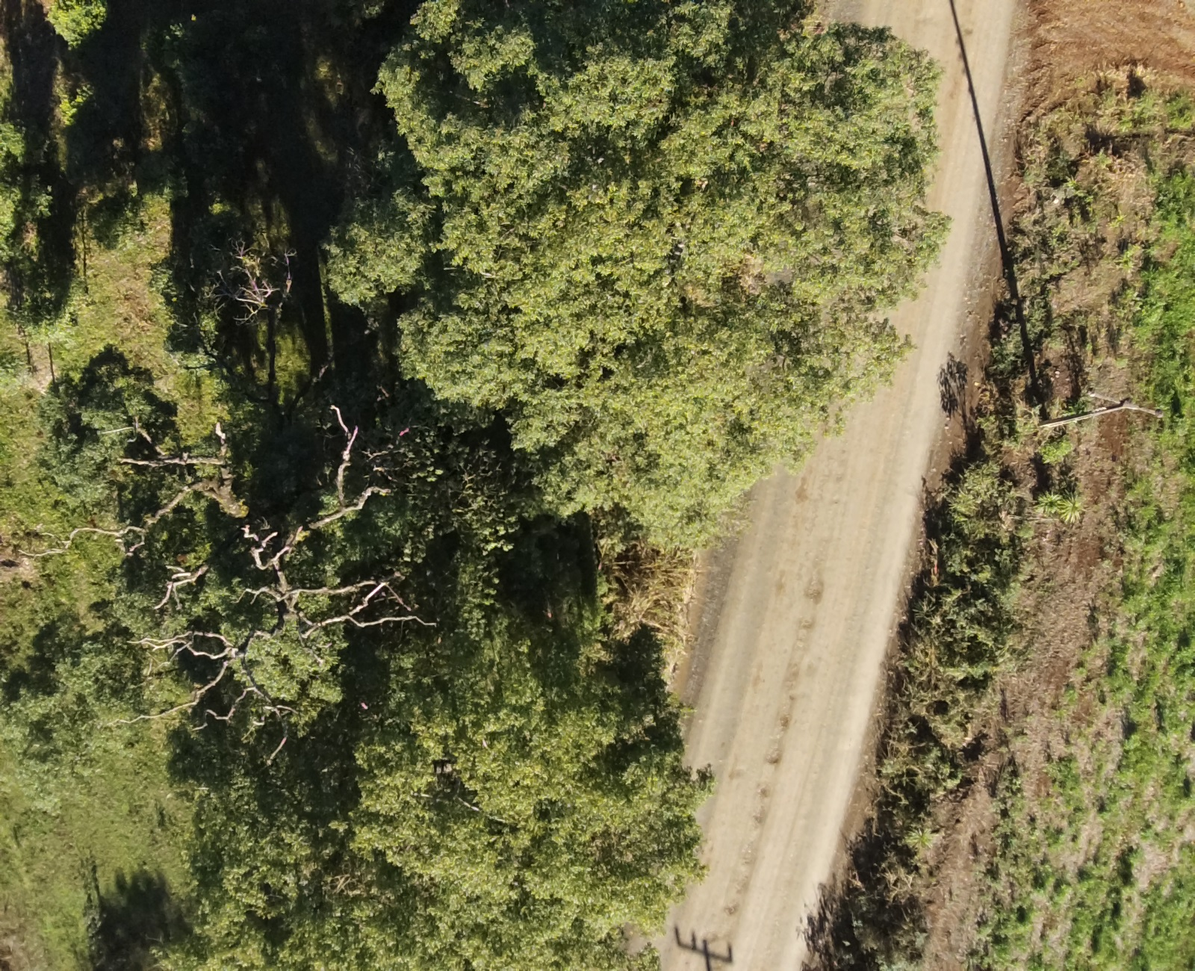erva: (43, 0, 112, 42)
